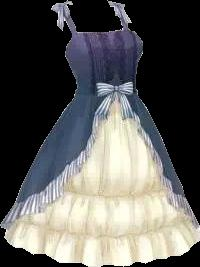Bodice: (53, 0, 142, 95)
Hemline: (1, 96, 196, 225), (3, 231, 199, 266)
Neckline: (63, 0, 126, 33)
Skirt: (0, 93, 199, 266)
Waistline: (75, 91, 138, 98)
